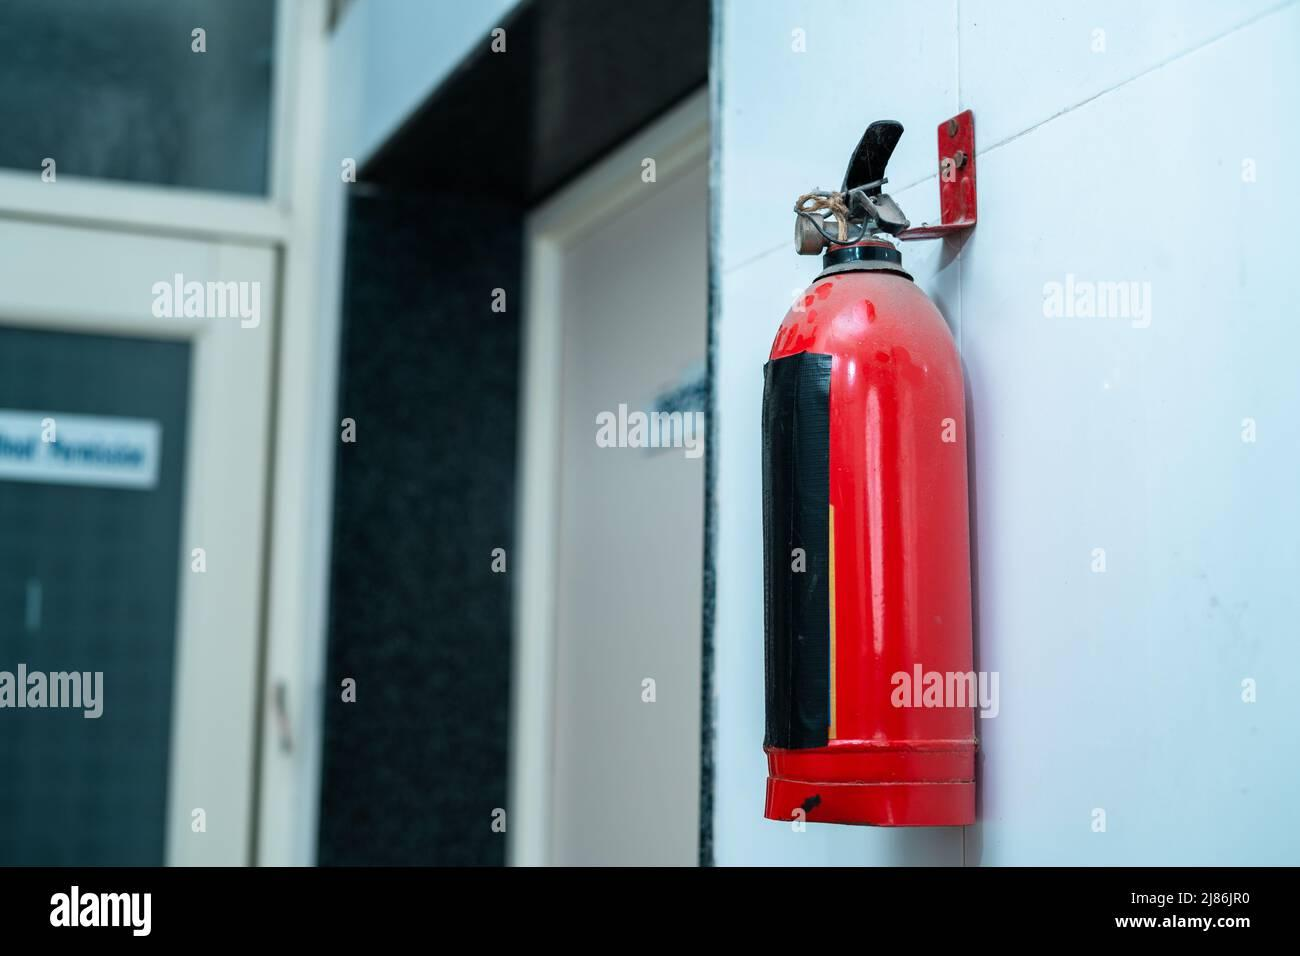wall-mounted: (715, 90, 1084, 843)
